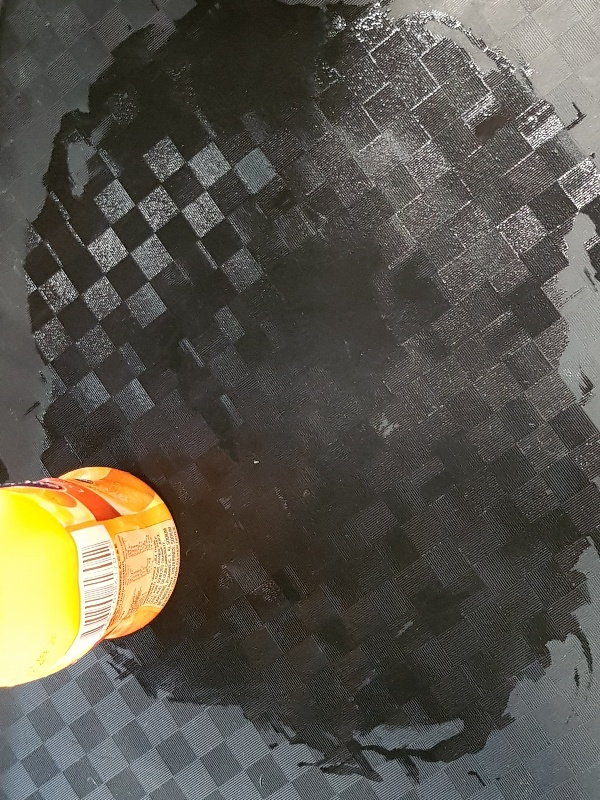Sunkist Orange Juice Drink: (1, 463, 178, 692)
